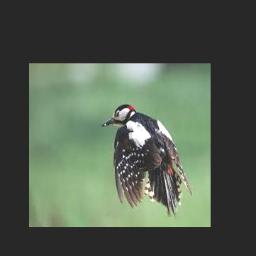Woodpecker: (101, 104, 191, 218)
